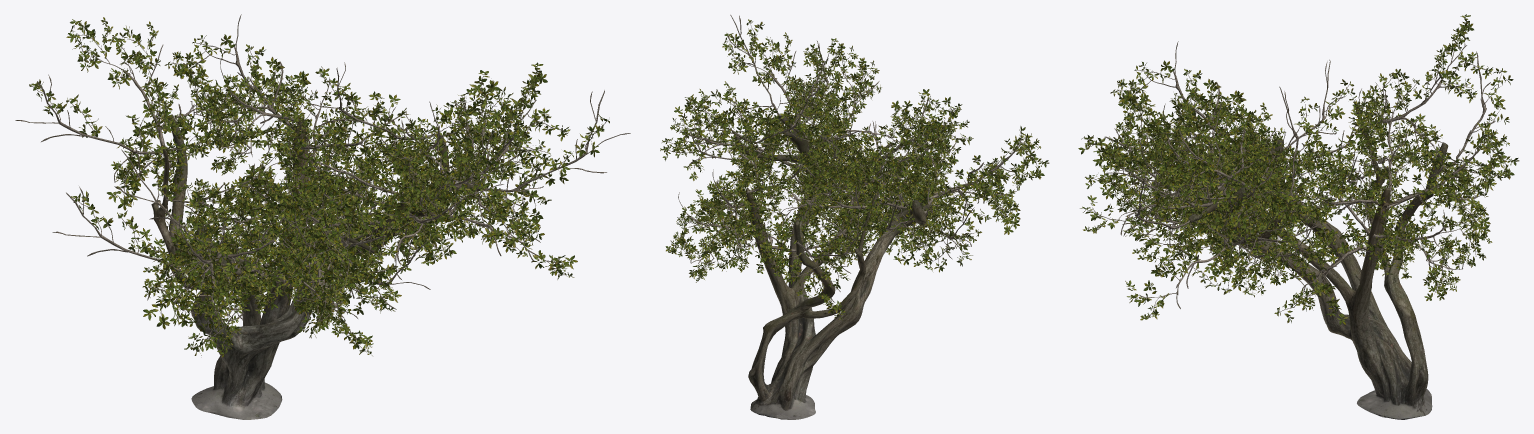
File: tree.glb
3 renders of one model, left to right at view 1: azimuth 30°, elevation 25°; view 2: azimuth 150°, elevation 25°; view 3: azimuth 270°, elevation 25°, orthographic. The views are drawn at different scales.
Visible parts, largest first — view 1: island_tree_02_LOD0; view 2: island_tree_02_LOD0; view 3: island_tree_02_LOD0.
Part boxes in pixels (x1=…): island_tree_02_LOD0: x1=15, y1=14, x2=630, y2=419; island_tree_02_LOD0: x1=660, y1=14, x2=1049, y2=419; island_tree_02_LOD0: x1=1078, y1=14, x2=1519, y2=419.
Size of the model in its own units: 4.21 by 3.41 by 4.07.
3 materials, 3 textured.
